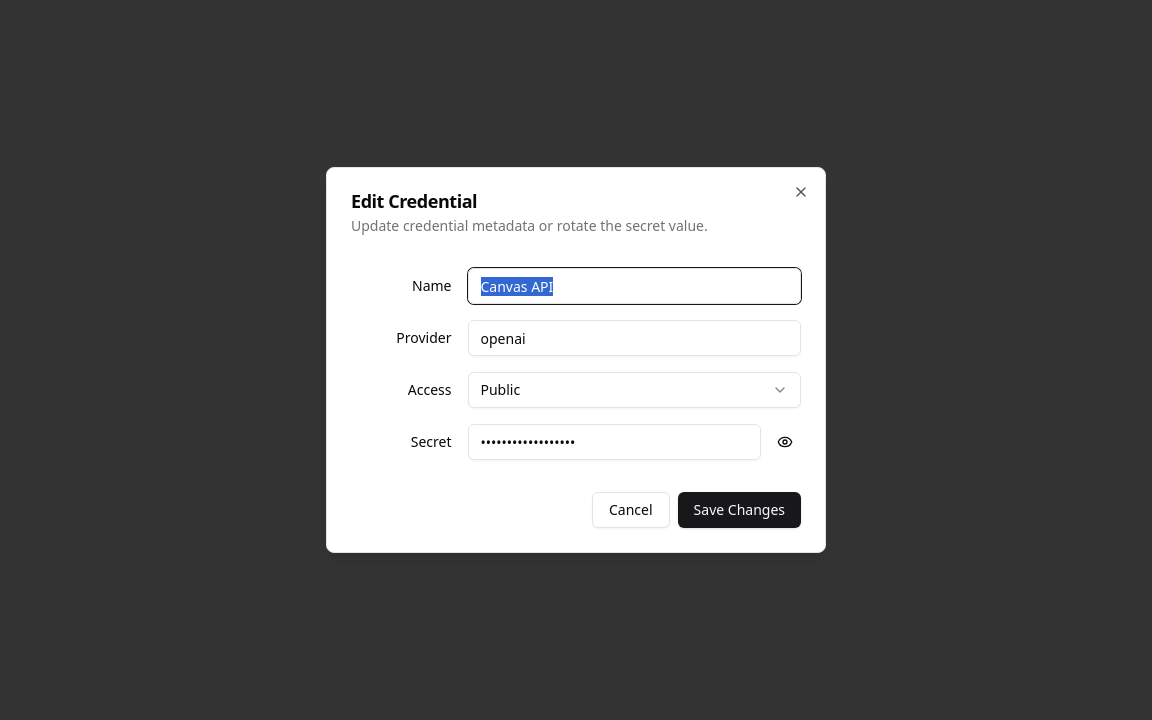
Credential dialogs › shows an explicit Show button in the edit dialog
Step 1. Click the button named "Show secret value" → (785, 442), box [769, 426, 801, 458]
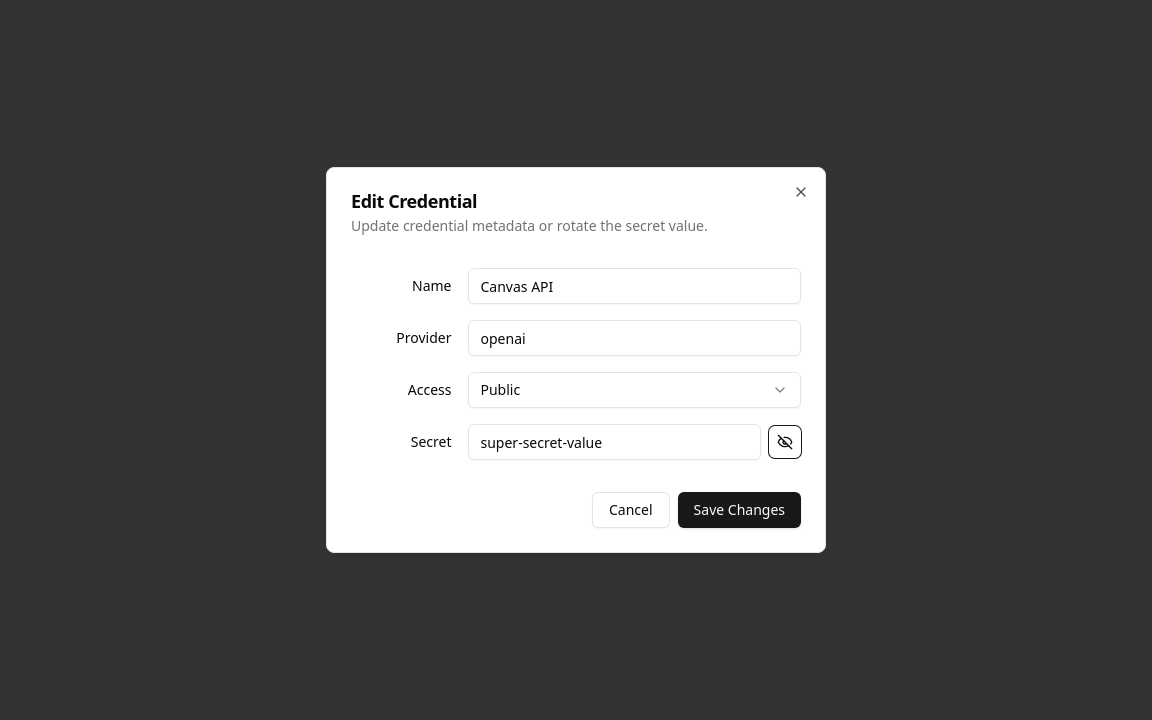
Now the field labelled "Secret" shows its text, box [468, 424, 761, 460]
Now the button named "Hide secret value" is shown, box [769, 426, 801, 458]
Step 2. Click the dropdown named "Access" → (500, 390), box [468, 372, 801, 408]
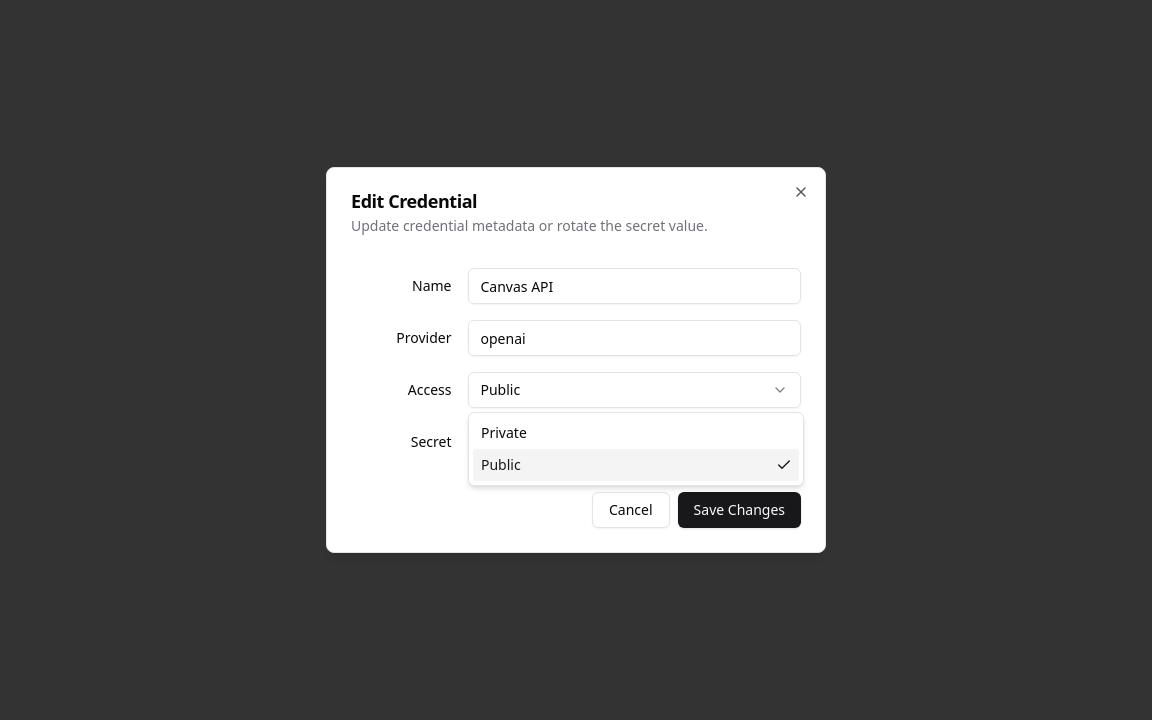
Now the option "Private" is shown, box [481, 423, 527, 442]
Now the option "Public" is shown, box [473, 449, 798, 481]
